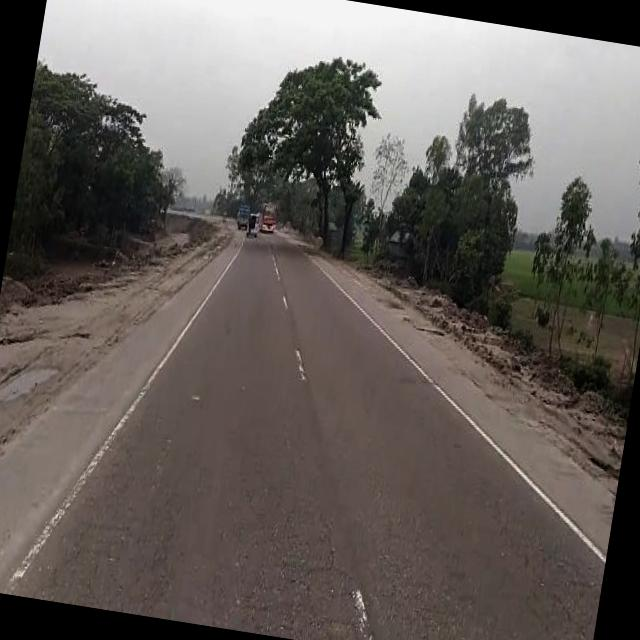bus: (256, 201, 278, 232), (244, 210, 260, 238)
truck: (233, 202, 250, 230)
